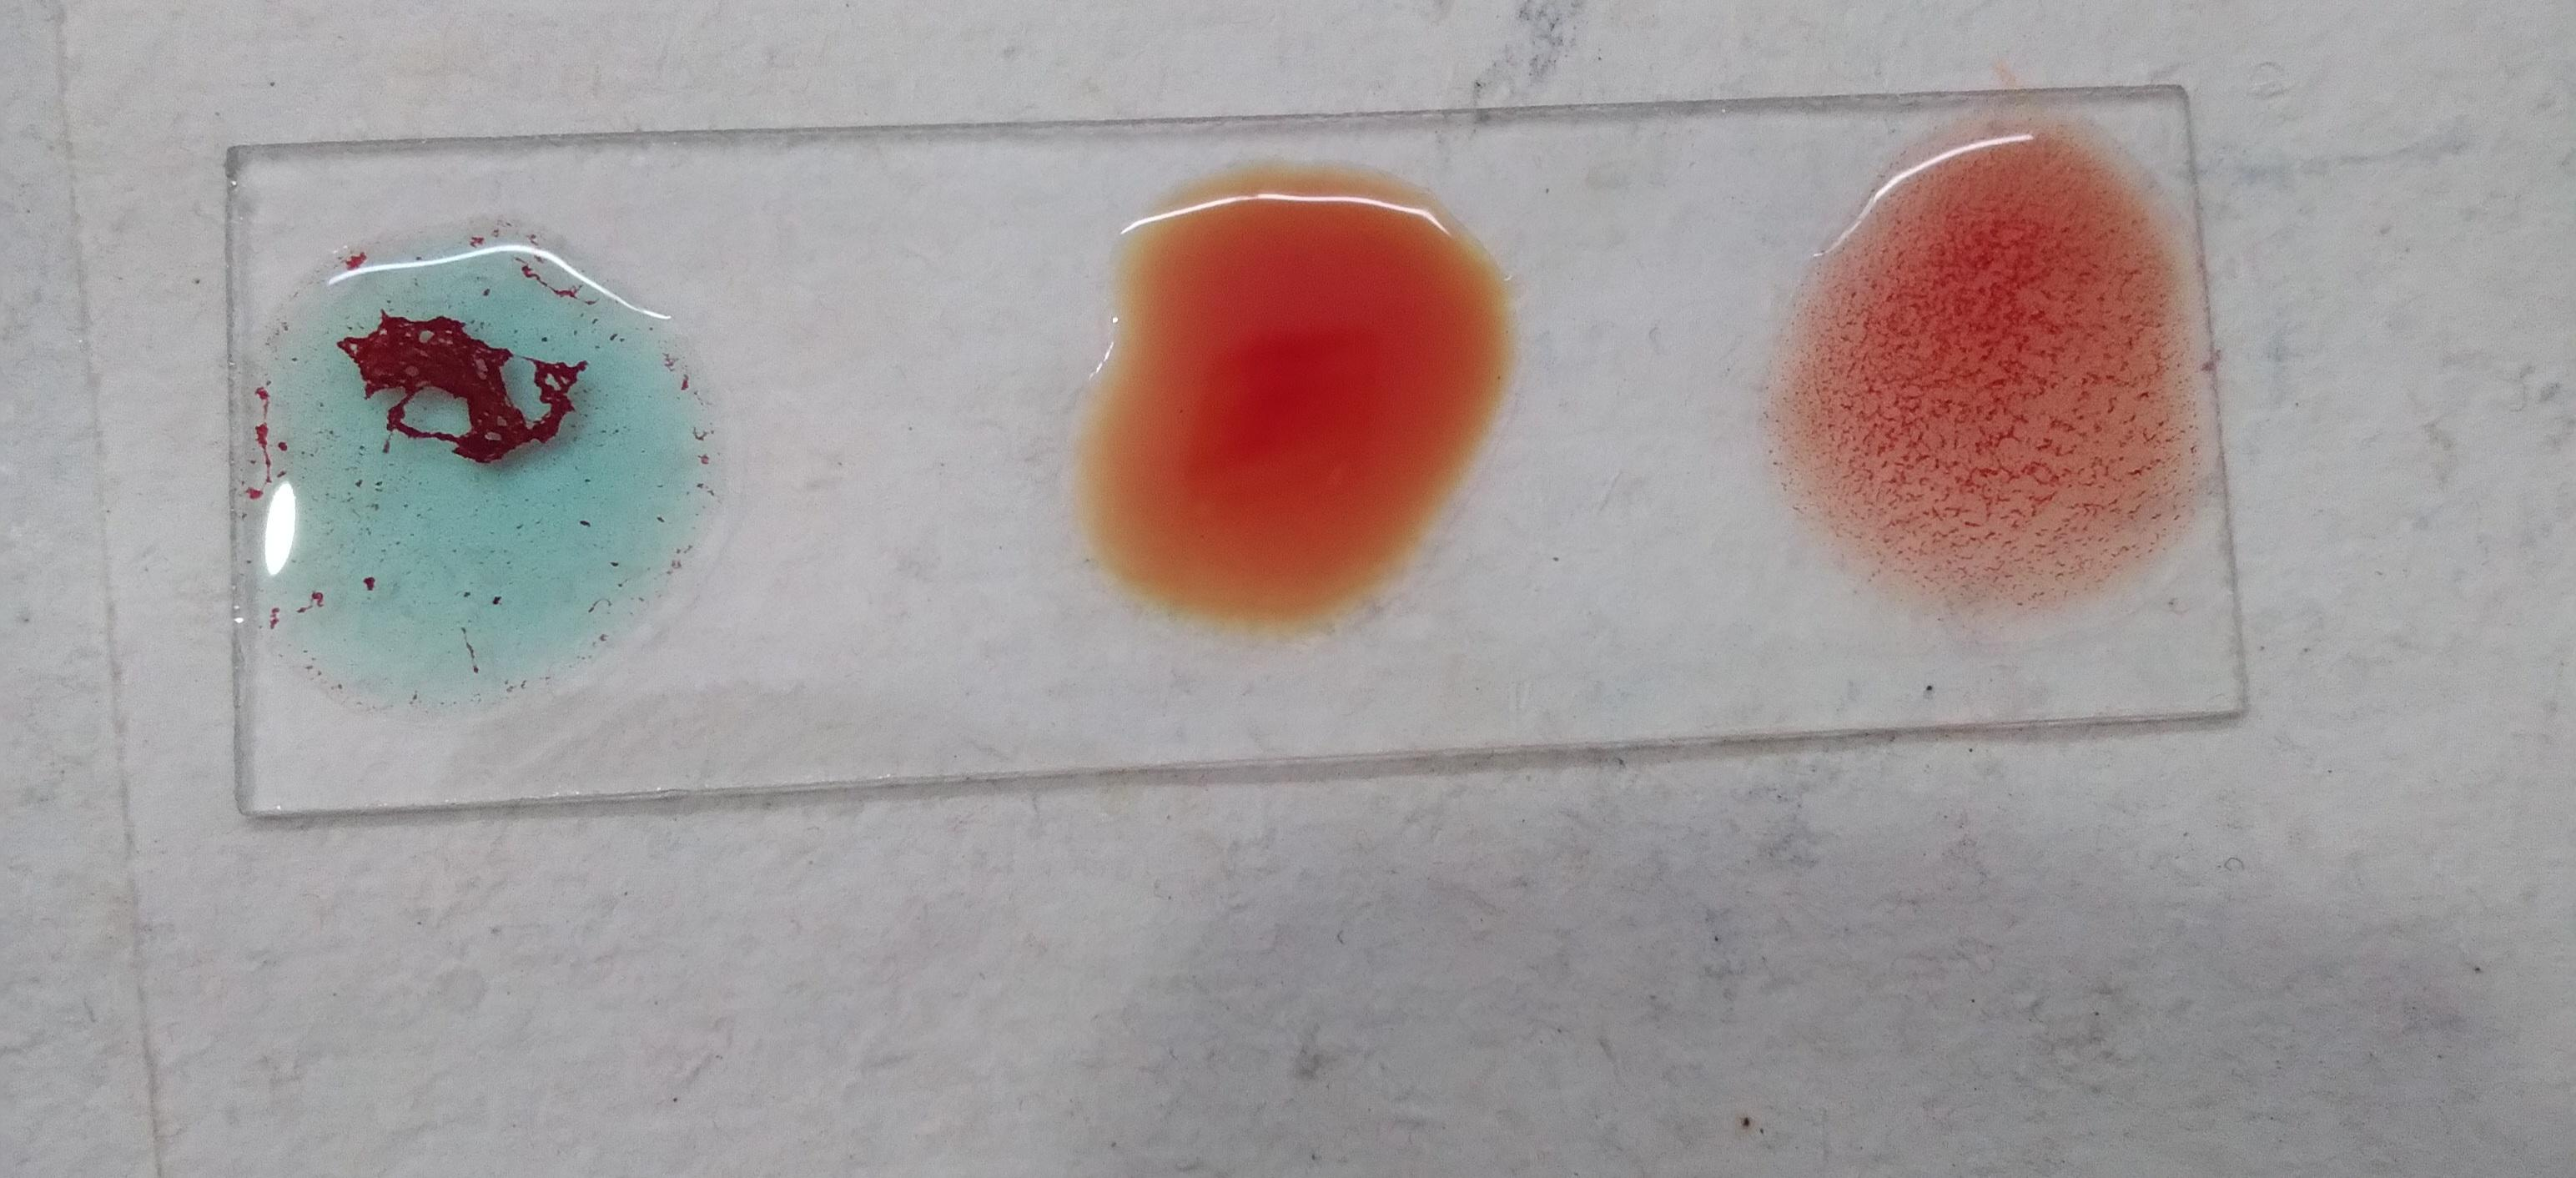A: (245, 215, 729, 716)
D: (1789, 117, 2200, 646)
